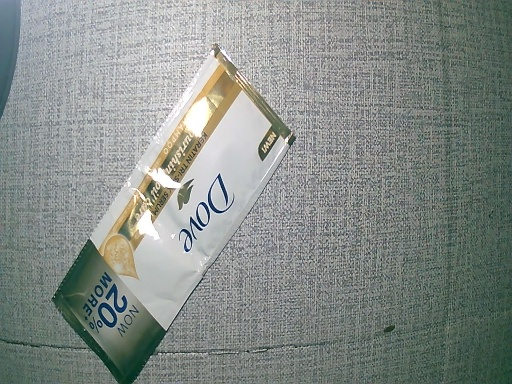plastic: (50, 49, 296, 384)
